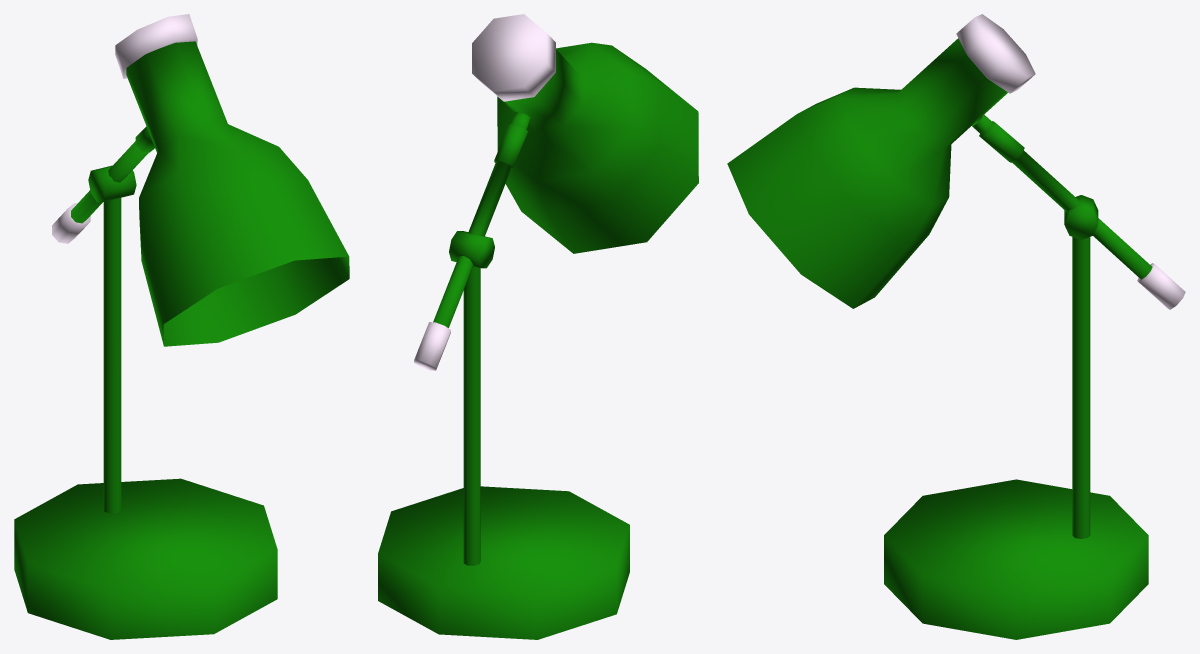
The model's file is Desk_lamp.001.fbx.
3 views of the same model, side by side, from view 1: azimuth 30°, elevation 25°; view 2: azimuth 150°, elevation 25°; view 3: azimuth 270°, elevation 25° (orthographic). The views are drawn at different scales.
Parts seen in each view (by area): view 1: Desk_lamp.001; view 2: Desk_lamp.001; view 3: Desk_lamp.001.
Part boxes in pixels (left/top/right/bottom): Desk_lamp.001: left=14, top=14, right=349, bottom=639; Desk_lamp.001: left=378, top=14, right=698, bottom=639; Desk_lamp.001: left=727, top=14, right=1185, bottom=639.
Bounding box in the file's own units: 0.3101 × 0.7321 × 0.5368.
